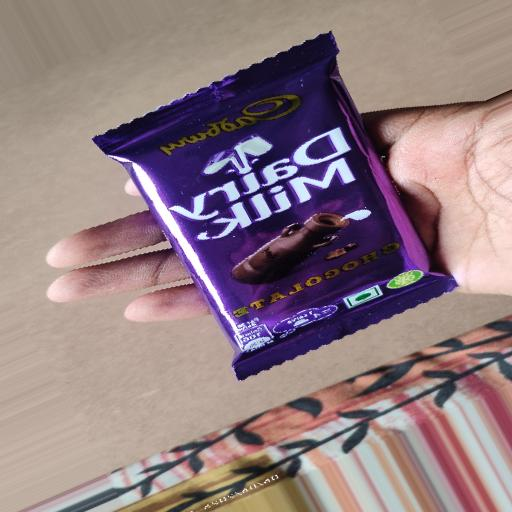Cadbury Dairy Milk Chocolate: (87, 34, 459, 390)
